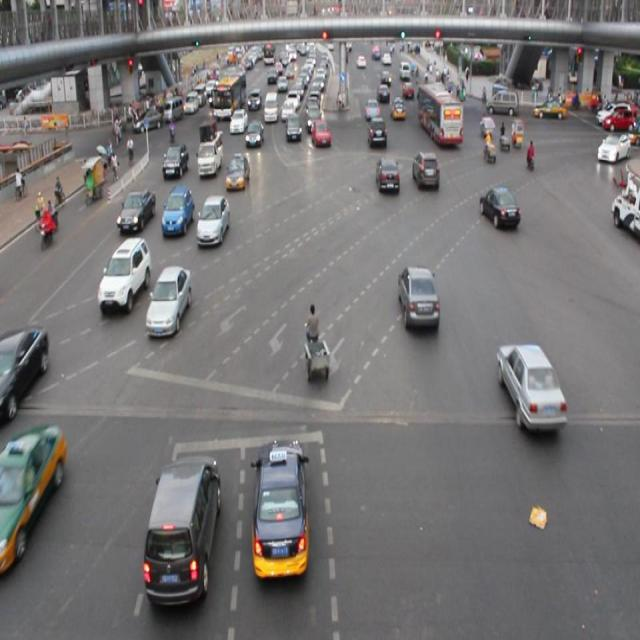car: (1, 426, 60, 574), (248, 438, 308, 580), (495, 344, 564, 423), (1, 322, 50, 418), (97, 235, 152, 317), (150, 266, 190, 336), (398, 264, 438, 331), (479, 187, 518, 230), (197, 193, 228, 246), (117, 190, 156, 232), (162, 186, 192, 236), (412, 152, 440, 191), (376, 154, 402, 196), (162, 142, 188, 182), (227, 153, 250, 192), (367, 118, 386, 150), (245, 120, 264, 152), (311, 116, 331, 144), (228, 105, 247, 134), (286, 114, 302, 142)
truck: (148, 456, 216, 601), (196, 122, 221, 180)
van: (417, 84, 461, 146)
